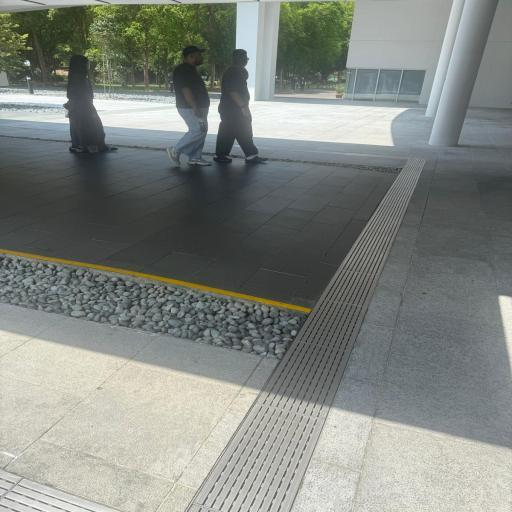person_right: (213, 48, 267, 164), (166, 46, 212, 166), (63, 54, 118, 153)
